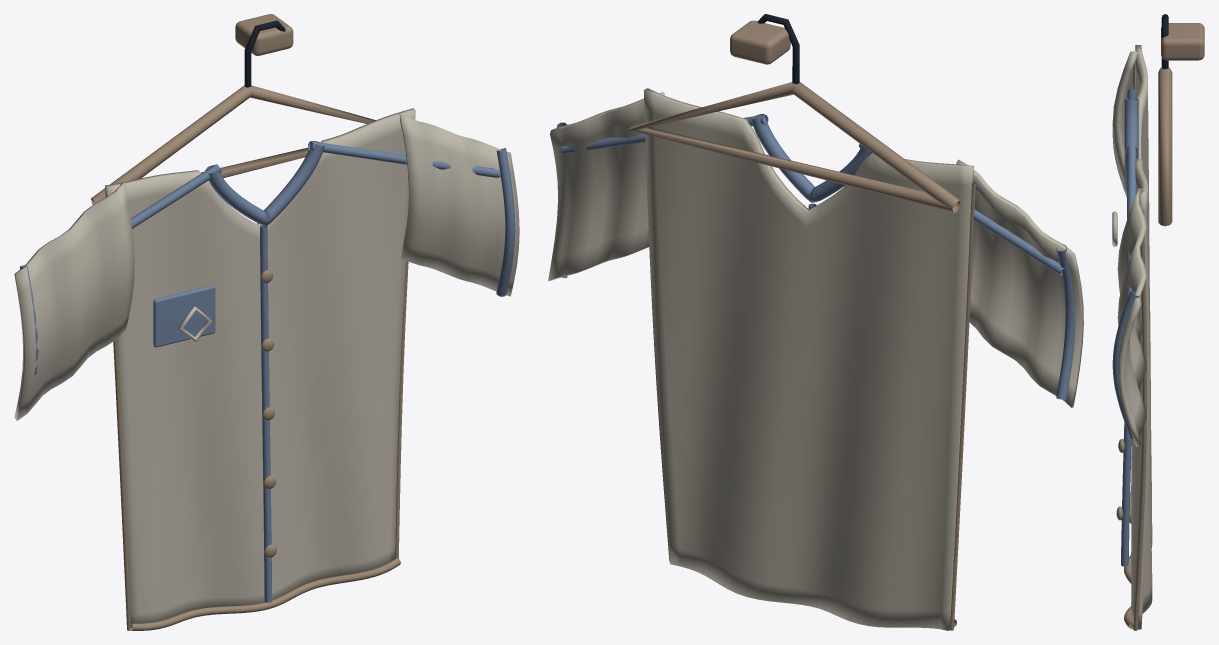
File: room-baseball-jersey.glb
The picture shows the model from 3 angles, left to right: view 1: azimuth 30°, elevation 25°; view 2: azimuth 150°, elevation 25°; view 3: azimuth 270°, elevation 25°; orthographic projection. The views are drawn at different scales.
Parts seen in each view (by area): view 1: room-baseball-jersey-linen, room-baseball-jersey-fabric, room-baseball-jersey-wood; view 2: room-baseball-jersey-linen, room-baseball-jersey-wood, room-baseball-jersey-fabric; view 3: room-baseball-jersey-linen, room-baseball-jersey-wood, room-baseball-jersey-fabric, room-baseball-jersey-coal.
Boxes of the visible parts, <box> form: room-baseball-jersey-linen: <box>14,108,519,628</box>; room-baseball-jersey-fabric: <box>19,140,515,602</box>; room-baseball-jersey-wood: <box>91,14,408,630</box>; room-baseball-jersey-linen: <box>548,88,1083,630</box>; room-baseball-jersey-wood: <box>629,20,975,630</box>; room-baseball-jersey-fabric: <box>556,114,1075,399</box>; room-baseball-jersey-linen: <box>1112,45,1152,629</box>; room-baseball-jersey-wood: <box>1116,23,1204,630</box>; room-baseball-jersey-fabric: <box>1112,83,1139,566</box>; room-baseball-jersey-coal: <box>1161,14,1168,69</box>.
Size of the model in its own units: 1.3 by 1.42 by 0.211.
